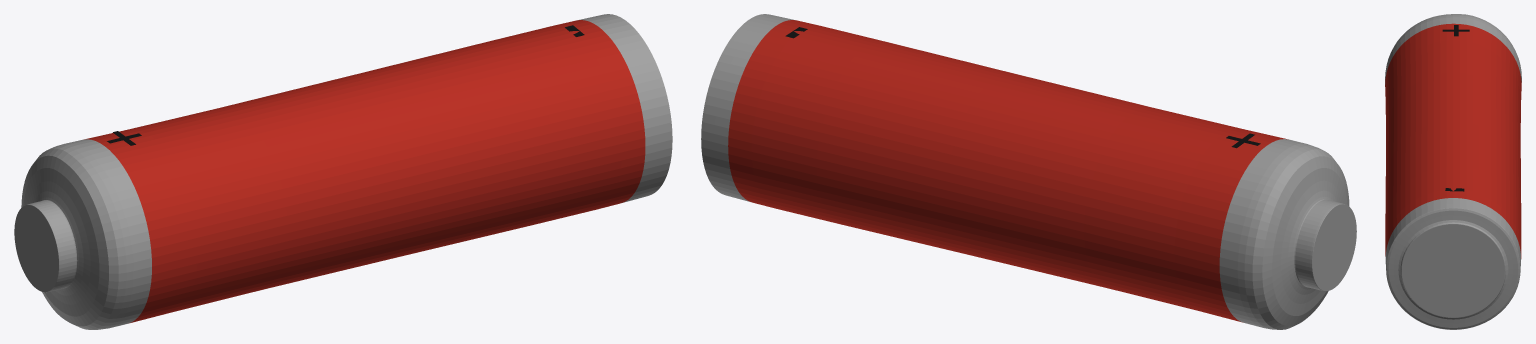
Rendered from battery.fbx.
The picture shows the model from 3 angles, left to right: view 1: azimuth 30°, elevation 25°; view 2: azimuth 150°, elevation 25°; view 3: azimuth 270°, elevation 25°; orthographic projection. The views are drawn at different scales.
Visible parts, largest first — view 1: Cylinder; view 2: Cylinder; view 3: Cylinder, Text.
Boxes of the visible parts, box(x1,y1,x2,y2) form: Cylinder: box(14, 14, 672, 329); Cylinder: box(701, 14, 1356, 329); Cylinder: box(1385, 14, 1521, 329); Text: box(1442, 25, 1469, 36).
Size of the model in its own units: 5.1 by 1.42 by 1.41.
